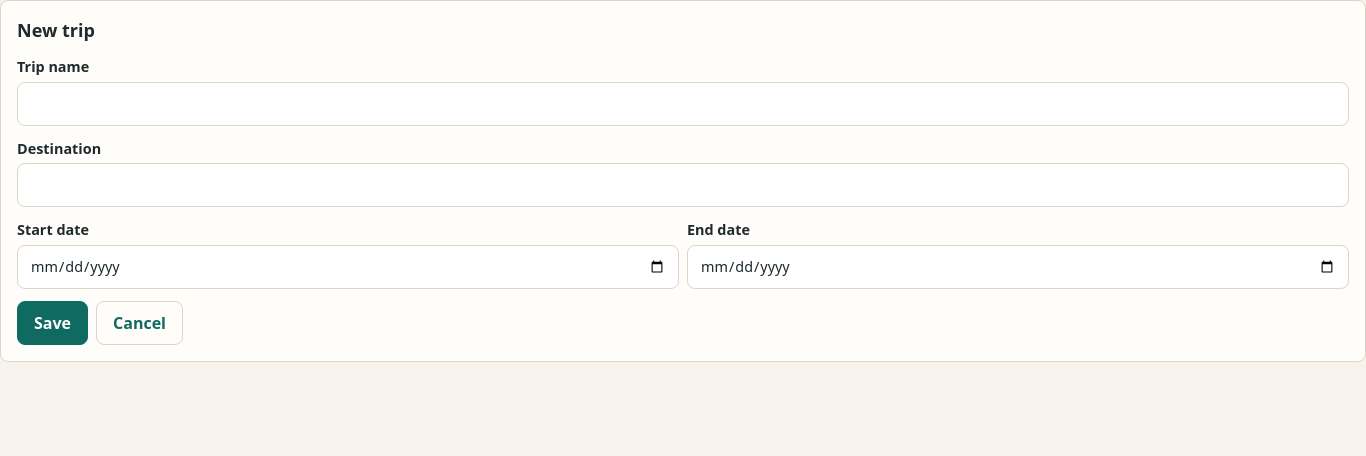
Test: removes the message after the field is fixed
The image size is (1366, 456).
Click the button "Save" at (52, 323), box [17,301,88,345]
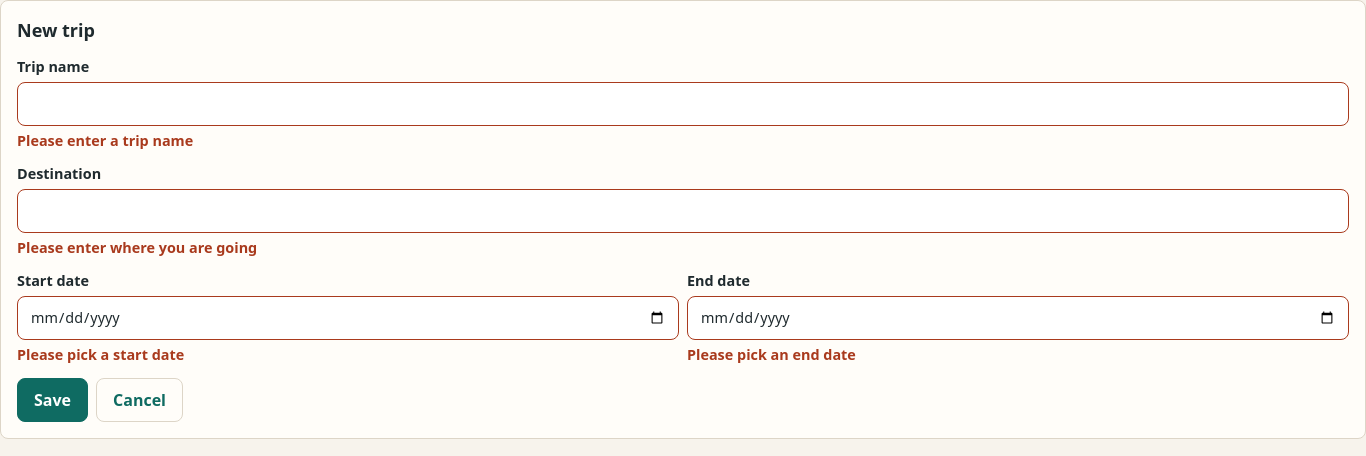
expect the text "Please enter a trip name" is shown: met, box [17,131,193,150]
Type "Bali" into the field labelled "Trip name Please enter a trip name" at (683, 104), box [17,82,1349,126]
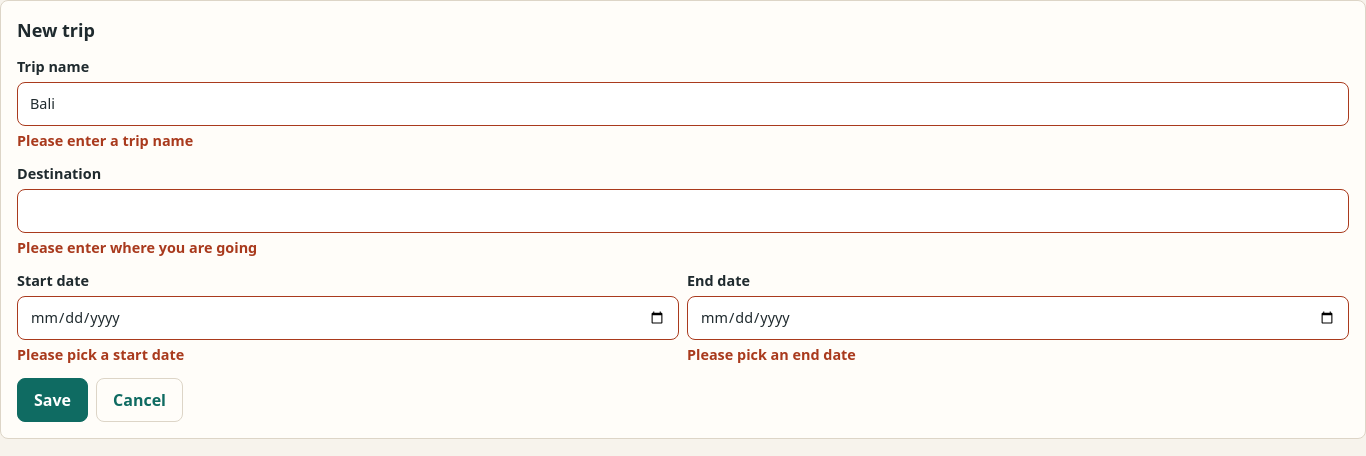
Type "Ubud" into the field labelled "Destination Please enter where you are going" at (683, 211), box [17,189,1349,233]
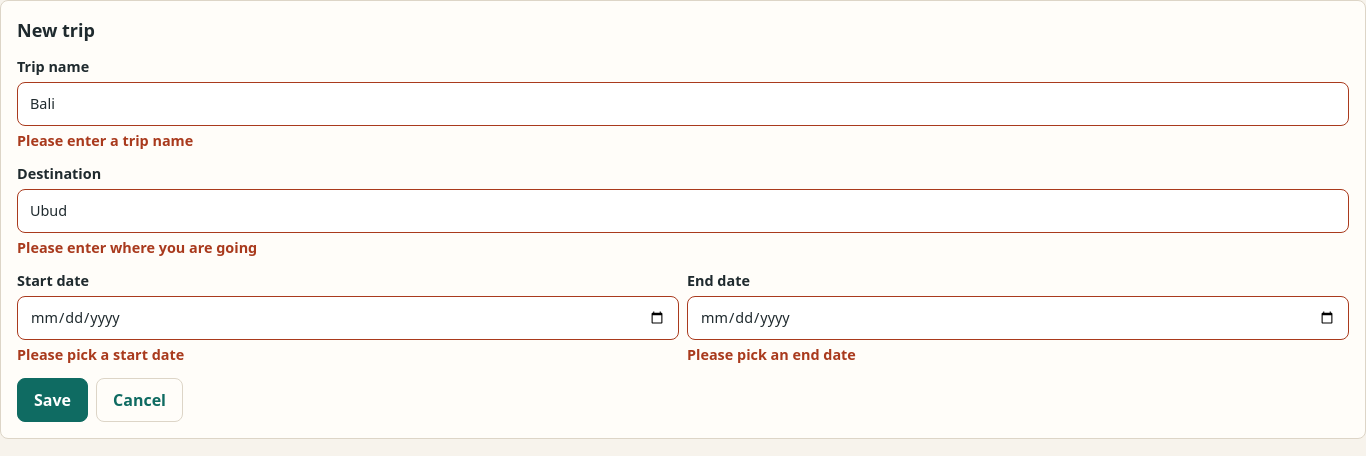
Type "2027-06-01" into the date field labelled "Start date Please pick a start date" at (348, 318), box [17,296,679,340]
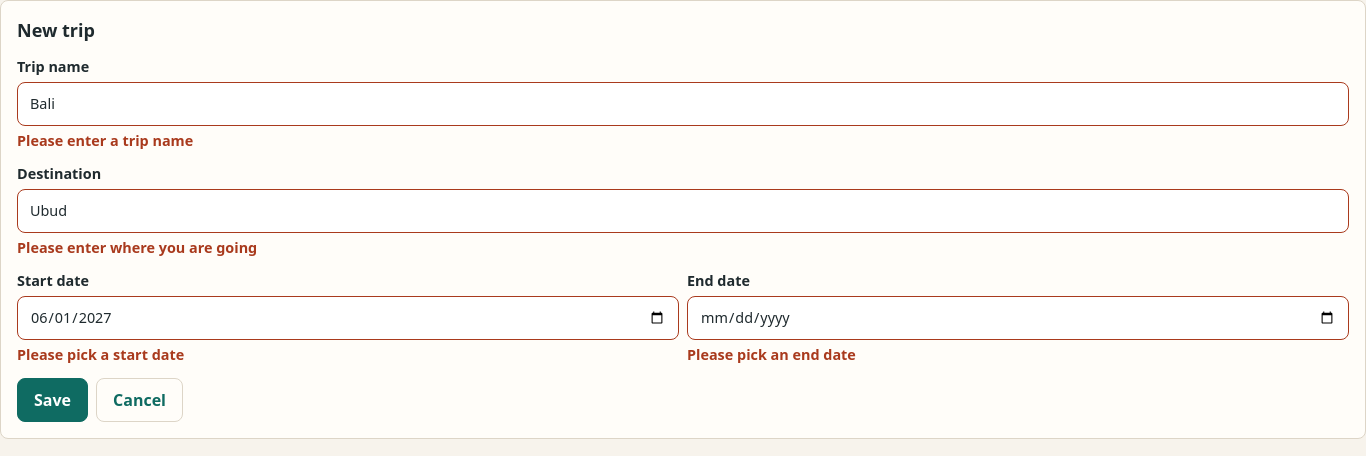
Type "2027-06-05" into the date field labelled "End date Please pick an end date" at (1018, 318), box [687,296,1349,340]
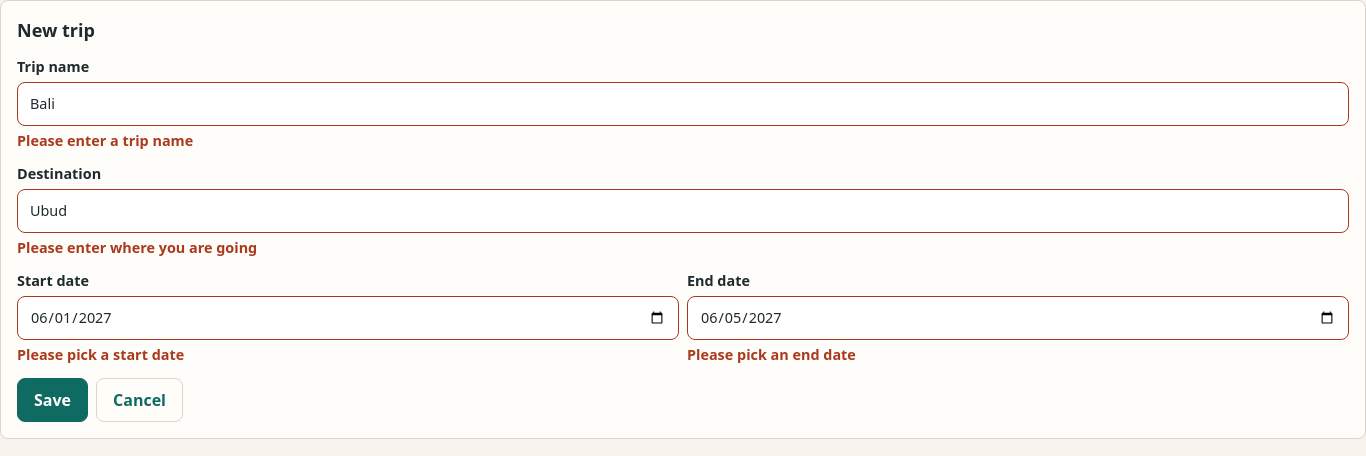
Click the button "Save" at (52, 400), box [17,378,88,422]
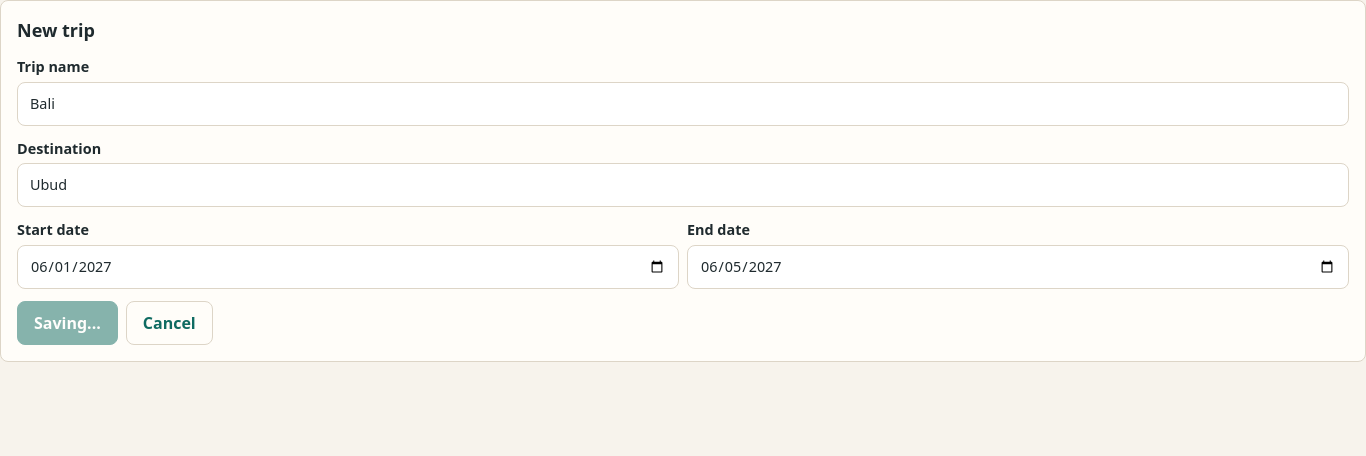
expect the text "Please enter a trip name" is gone: met
